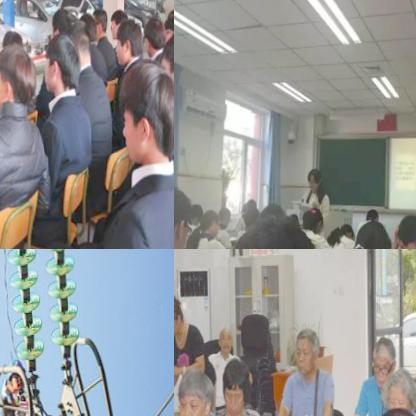head: (116, 57, 174, 166), (227, 211, 312, 249), (40, 36, 81, 99), (0, 45, 35, 118), (220, 356, 250, 416), (176, 369, 214, 416), (382, 367, 416, 416), (292, 326, 322, 379), (369, 336, 397, 388), (114, 19, 142, 64), (156, 34, 174, 100), (65, 13, 88, 63), (354, 217, 388, 249), (143, 14, 164, 57), (394, 210, 416, 249), (48, 5, 70, 43), (2, 29, 23, 66), (109, 6, 129, 43), (300, 202, 322, 233), (79, 9, 97, 46), (92, 5, 108, 42), (198, 209, 219, 237), (240, 197, 259, 226), (215, 325, 232, 354), (174, 293, 183, 337), (215, 203, 231, 227), (304, 168, 320, 192), (161, 16, 174, 44), (363, 206, 378, 225), (339, 220, 352, 240), (167, 3, 174, 35)
helmet: (4, 356, 29, 395)
